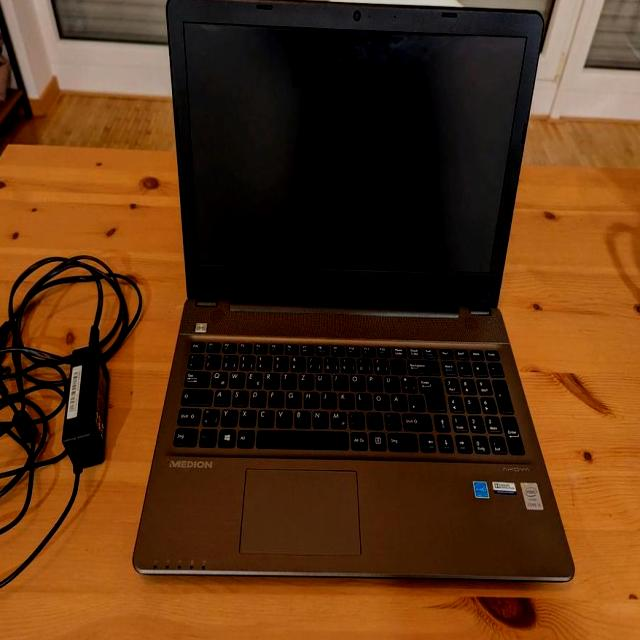0: (355, 355, 371, 371)
1: (204, 351, 220, 367)
2: (220, 352, 236, 368)
3: (238, 352, 254, 368)
4: (254, 353, 270, 367)
5: (272, 353, 286, 369)
6: (288, 353, 304, 369)
7: (306, 354, 320, 370)
8: (339, 355, 353, 371)
9: (323, 354, 337, 370)
a: (212, 387, 228, 403)
accent: (389, 357, 405, 371)
ae: (389, 391, 406, 409)
alt-left: (236, 426, 253, 446)
altgr-right: (349, 428, 366, 448)
b: (293, 407, 309, 425)
c: (256, 406, 272, 424)
caret: (185, 350, 201, 366)
comma: (346, 409, 363, 427)
d: (248, 387, 264, 405)
del: (405, 358, 438, 372)
e: (244, 370, 260, 386)
enter: (416, 372, 445, 408)
f: (266, 388, 282, 406)
g: (284, 388, 300, 406)
h: (302, 389, 318, 405)
hash: (407, 391, 424, 409)
i: (331, 372, 347, 388)
j: (319, 389, 335, 407)
k: (337, 390, 353, 406)
keyboard: (169, 336, 525, 460)
l: (355, 390, 371, 408)
less: (200, 405, 218, 425)
m: (329, 408, 345, 426)
minus: (383, 410, 400, 428)
n: (311, 408, 327, 426)
o: (348, 372, 364, 388)
oe: (371, 390, 388, 408)
p: (365, 372, 381, 388)
plus: (400, 374, 416, 390)
point: (364, 409, 382, 427)
q: (209, 369, 226, 385)
r: (262, 370, 278, 386)
s: (230, 387, 247, 405)
shift-left: (175, 404, 199, 424)
shift-lock: (179, 386, 211, 402)
shift-right: (401, 410, 431, 428)
space: (256, 427, 348, 447)
ss: (372, 356, 388, 372)
strg-left: (171, 424, 197, 444)
strg-right: (386, 430, 416, 450)
t: (280, 370, 296, 386)
tab: (182, 368, 208, 384)
u: (314, 371, 330, 387)
ue: (381, 373, 398, 389)
v: (274, 407, 290, 425)
w: (227, 369, 243, 385)
x: (238, 406, 254, 424)
y: (219, 406, 236, 424)
z: (297, 371, 313, 387)
